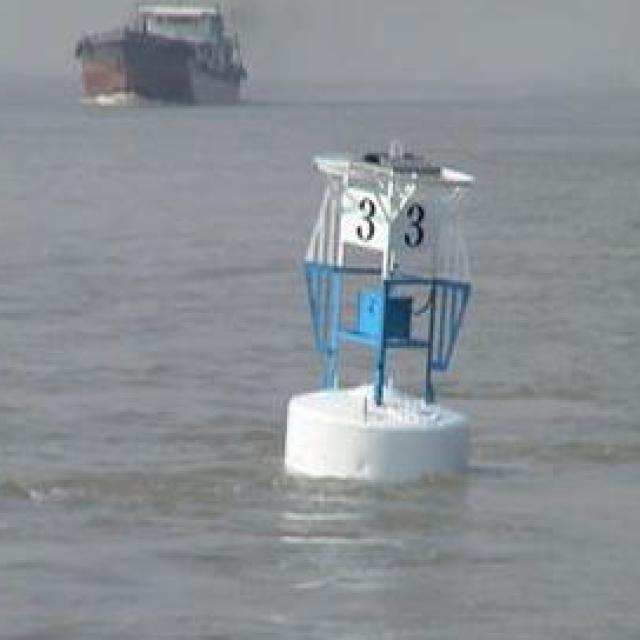cargoship: (66, 0, 254, 104)
